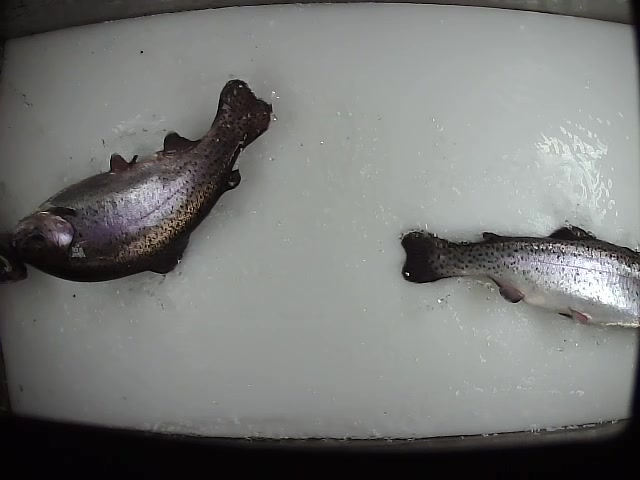fish: (5, 74, 274, 283), (393, 219, 640, 329)
